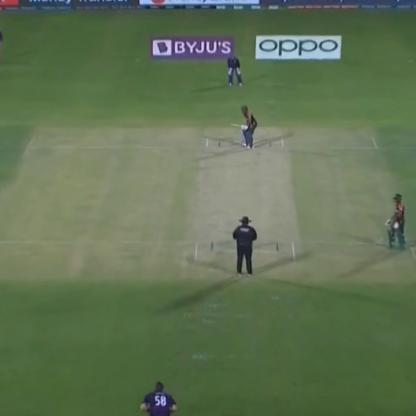bat: (222, 120, 246, 131)
pitch: (192, 136, 296, 269)
